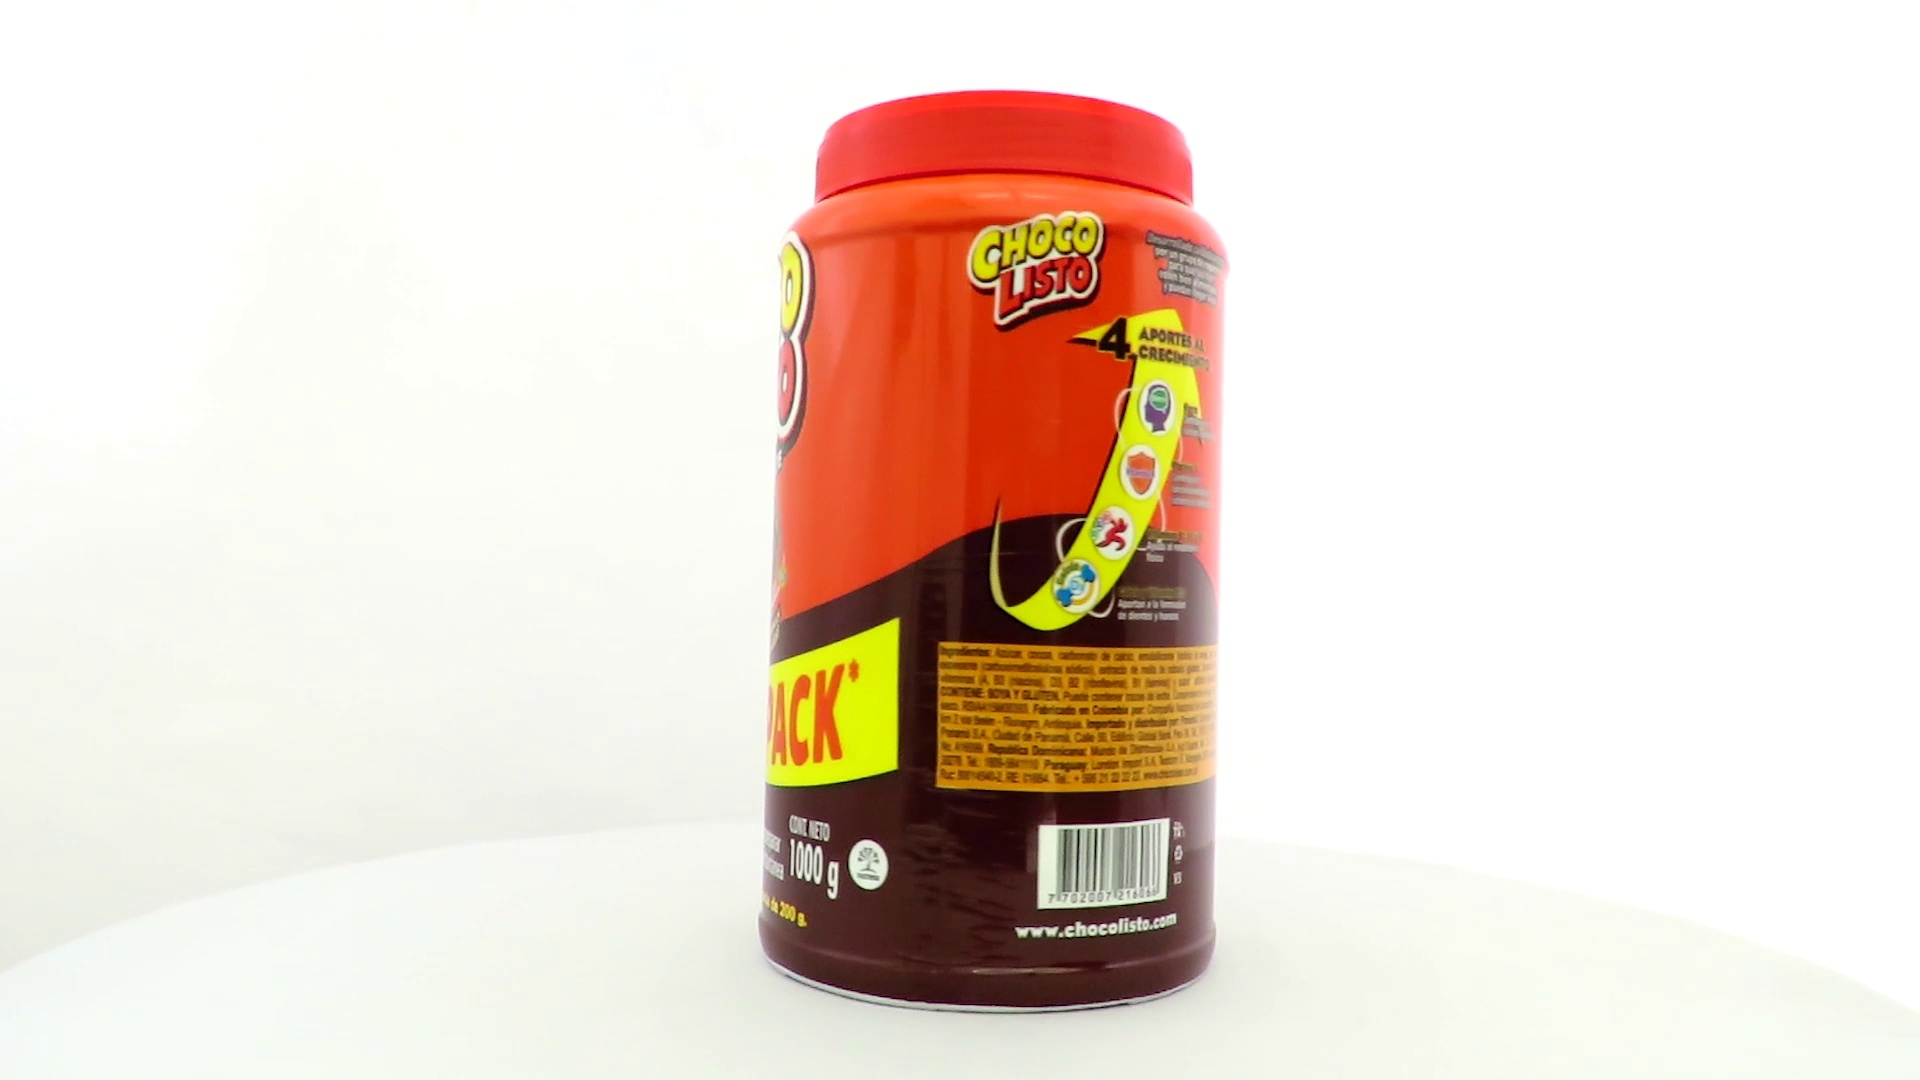COL0170103TRR00100: (753, 84, 1236, 1021)
